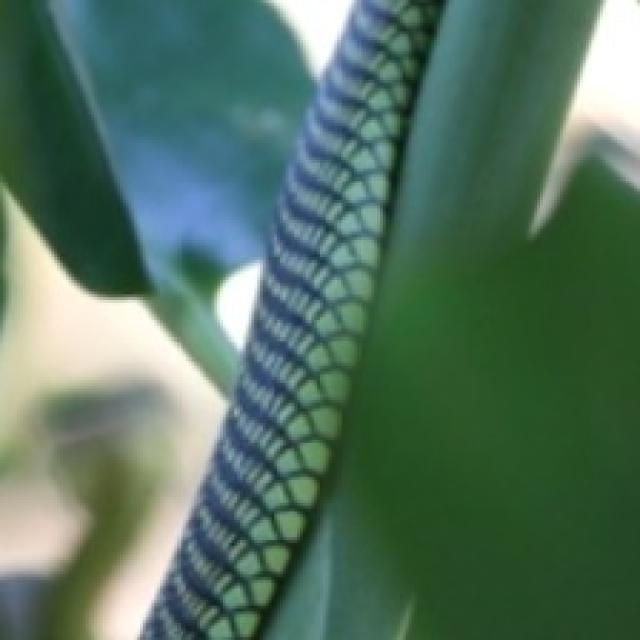paradise tree snake: (143, 0, 637, 637)
